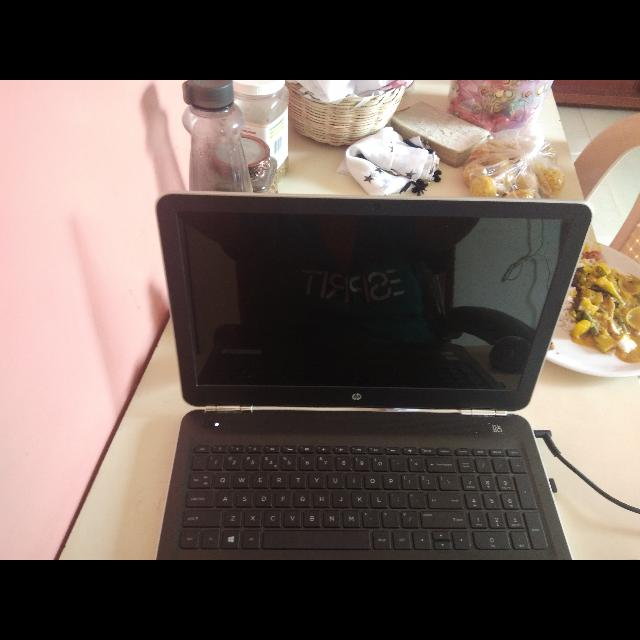Laptop: (140, 186, 598, 560)
